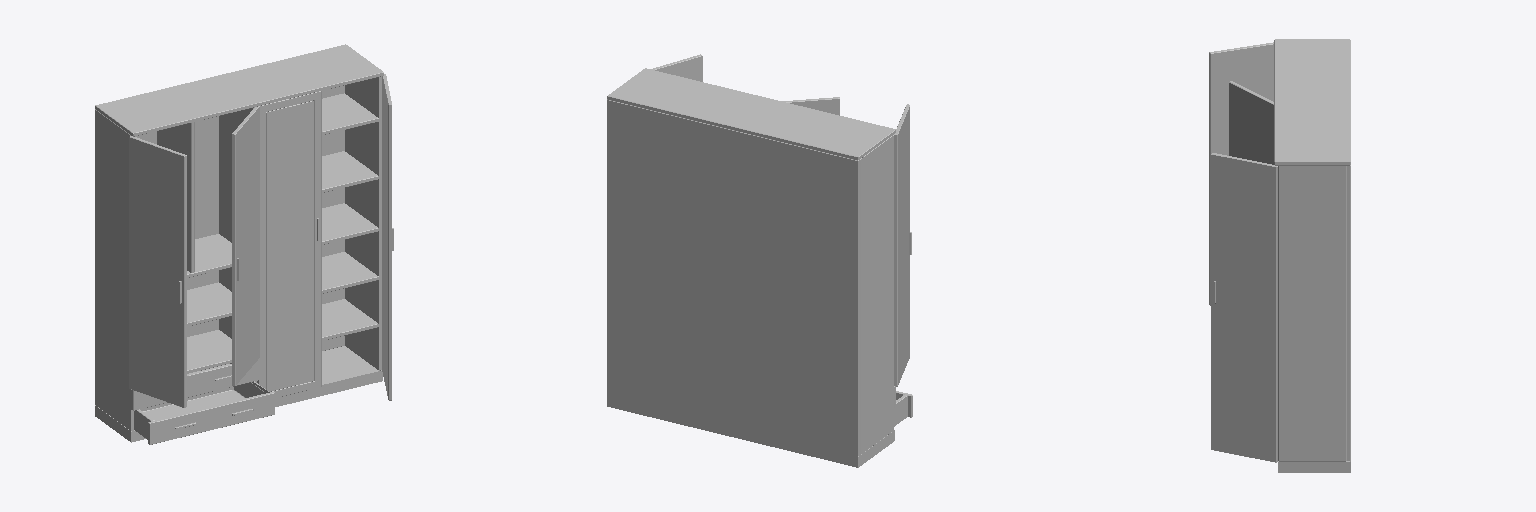
File: Cupboard-1-obj (1).obj
The picture shows the model from 3 angles: view 1: azimuth 30°, elevation 25°; view 2: azimuth 150°, elevation 25°; view 3: azimuth 270°, elevation 25°; orthographic projection.
Visible parts, largest first — view 1: Cupboard_1_obj__1_:Cupboard01_body, Cupboard_1_obj__1_:Cupboard01_door02, Cupboard_1_obj__1_:Cupboard01_door00, Cupboard_1_obj__1_:Cupboard01_inerwood01, Cupboard_1_obj__1_:Cupboard01_door01, Cupboard_1_obj__1_:Cupboard01_inerwood00, Cupboard_1_obj__1_:Cupboard01_drawer01, Cupboard_1_obj__1_:Cupboard01_door03, Cupboard_1_obj__1_:Cupboard01_drawer00; view 2: Cupboard_1_obj__1_:Cupboard01_body, Cupboard_1_obj__1_:Cupboard01_door00, Cupboard_1_obj__1_:Cupboard01_door03, Cupboard_1_obj__1_:Cupboard01_door01; view 3: Cupboard_1_obj__1_:Cupboard01_body, Cupboard_1_obj__1_:Cupboard01_door03, Cupboard_1_obj__1_:Cupboard01_door00, Cupboard_1_obj__1_:Cupboard01_door01.
Boxes of the visible parts, x1=… form: Cupboard_1_obj__1_:Cupboard01_body: x1=95, y1=44, x2=383, y2=442; Cupboard_1_obj__1_:Cupboard01_door02: x1=257, y1=91, x2=321, y2=397; Cupboard_1_obj__1_:Cupboard01_door00: x1=129, y1=136, x2=186, y2=407; Cupboard_1_obj__1_:Cupboard01_inerwood01: x1=322, y1=93, x2=378, y2=340; Cupboard_1_obj__1_:Cupboard01_door01: x1=232, y1=106, x2=259, y2=385; Cupboard_1_obj__1_:Cupboard01_inerwood00: x1=157, y1=122, x2=231, y2=373; Cupboard_1_obj__1_:Cupboard01_drawer01: x1=134, y1=381, x2=274, y2=444; Cupboard_1_obj__1_:Cupboard01_door03: x1=382, y1=74, x2=393, y2=400; Cupboard_1_obj__1_:Cupboard01_drawer00: x1=131, y1=359, x2=258, y2=410; Cupboard_1_obj__1_:Cupboard01_body: x1=607, y1=68, x2=895, y2=467; Cupboard_1_obj__1_:Cupboard01_door00: x1=894, y1=104, x2=911, y2=386; Cupboard_1_obj__1_:Cupboard01_door03: x1=651, y1=54, x2=702, y2=81; Cupboard_1_obj__1_:Cupboard01_door01: x1=782, y1=97, x2=839, y2=115; Cupboard_1_obj__1_:Cupboard01_body: x1=1274, y1=39, x2=1350, y2=472; Cupboard_1_obj__1_:Cupboard01_door03: x1=1211, y1=153, x2=1277, y2=462; Cupboard_1_obj__1_:Cupboard01_door00: x1=1209, y1=42, x2=1273, y2=305; Cupboard_1_obj__1_:Cupboard01_door01: x1=1229, y1=81, x2=1273, y2=164.
Bounding box in the file's own units: 73.52 × 85 × 35.15.